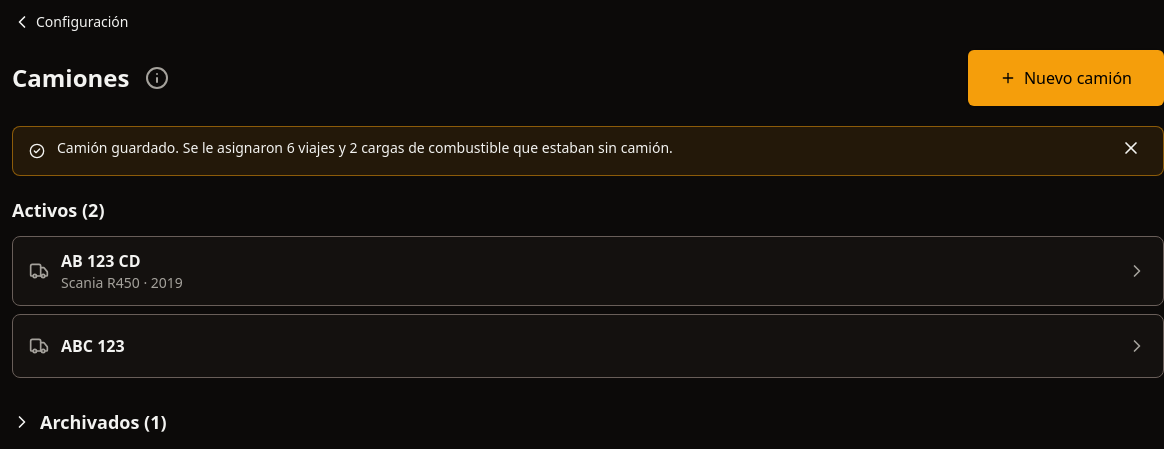
Test: pantalla Camiones (/camiones) › el aviso que llega al volver de guardar dice cuántos registros se asignaron; se puede cerrar
Click the button named "Cerrar aviso".
click(1131, 148)  # box left=1107, top=124, right=1155, bottom=172
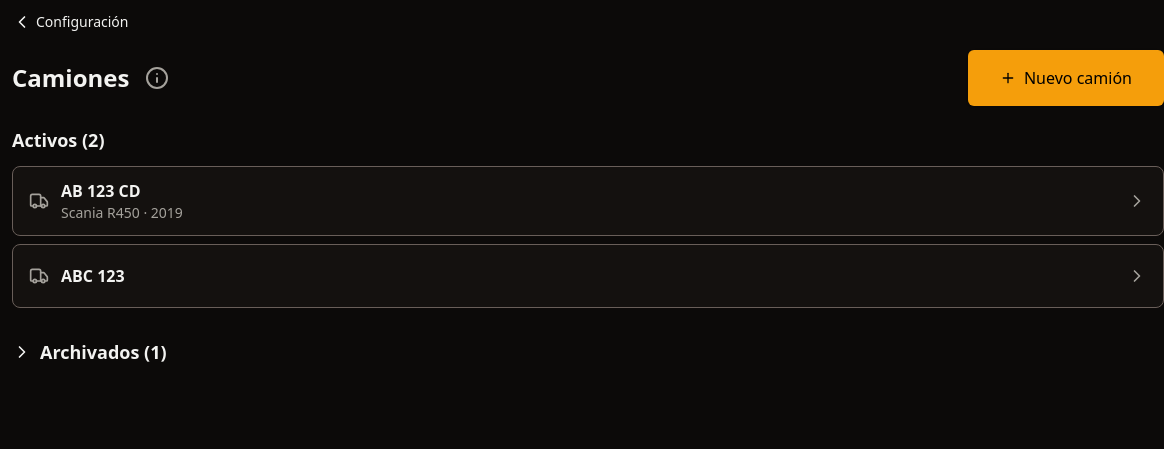
expect the text "Camión guardado" is gone: met
